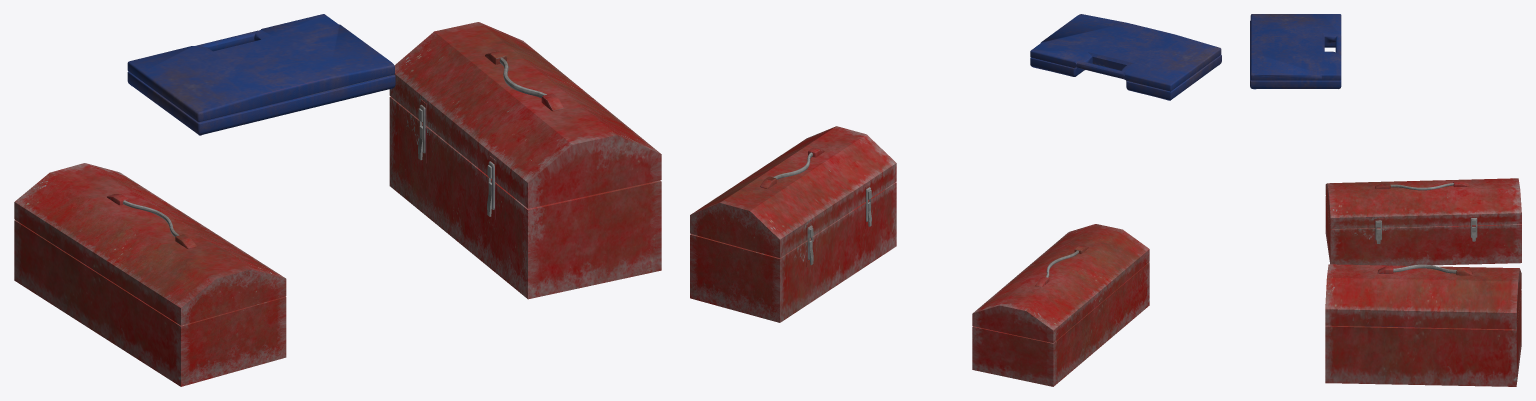
The model's file is CASE 1.fbx.
The picture shows the model from 3 angles, left to right: view 1: azimuth 30°, elevation 25°; view 2: azimuth 150°, elevation 25°; view 3: azimuth 270°, elevation 25°; orthographic projection. The views are drawn at different scales.
Visible parts, largest first — view 1: case 1; view 2: case 1; view 3: case 1.
Boxes of the visible parts, x1,y1,x2,y2 form: case 1: (14, 14, 661, 386); case 1: (690, 14, 1221, 386); case 1: (1250, 14, 1521, 386).
Size of the model in its own units: 127 by 75.18 by 88.2.
1 material, 1 textured.
